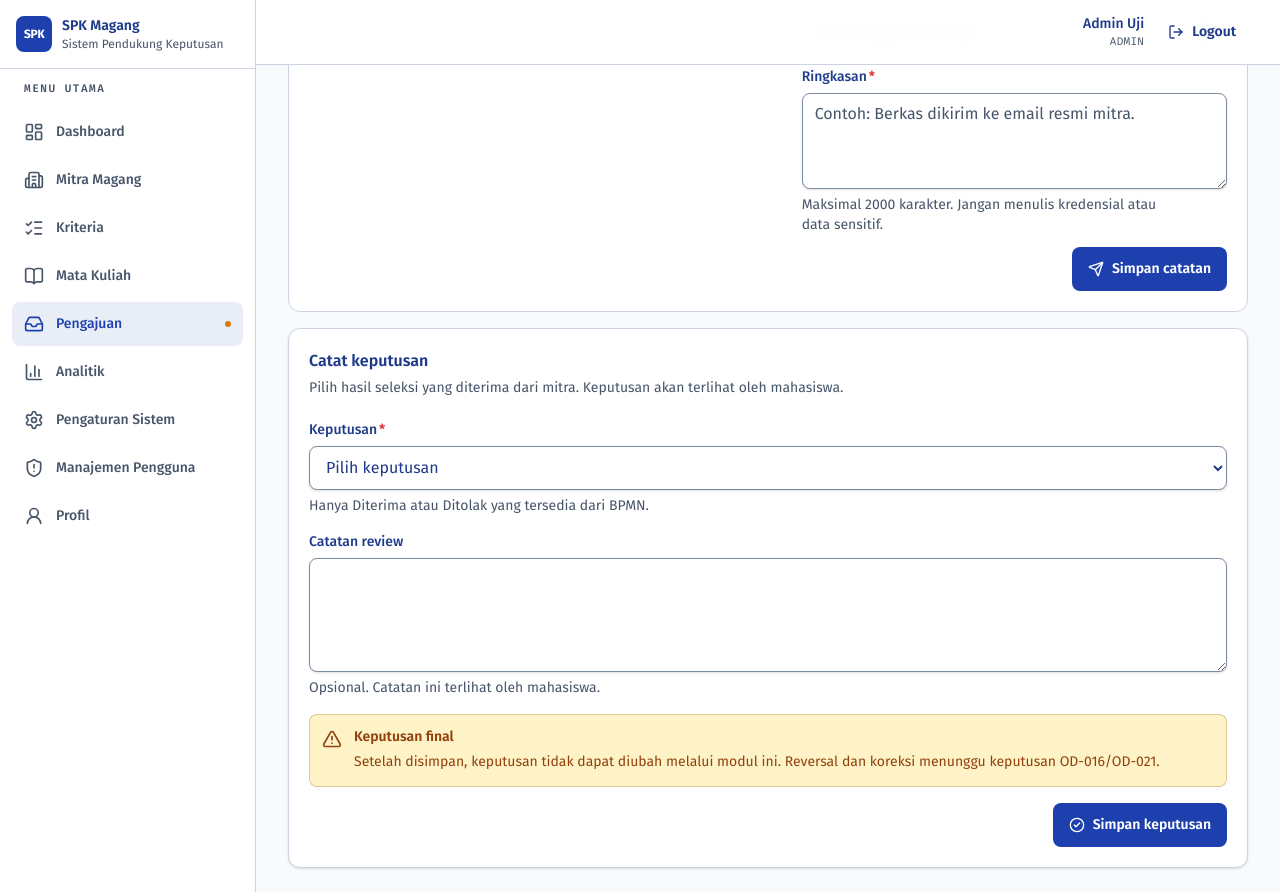
Test: AdminApplicationDetailPage › menampilkan pesan khusus ketika keputusan sudah final
(page scrolled)
Select "Ditolak" in the dropdown labelled "Keputusan*". click: (768, 468)
box: [309, 446, 1227, 490]
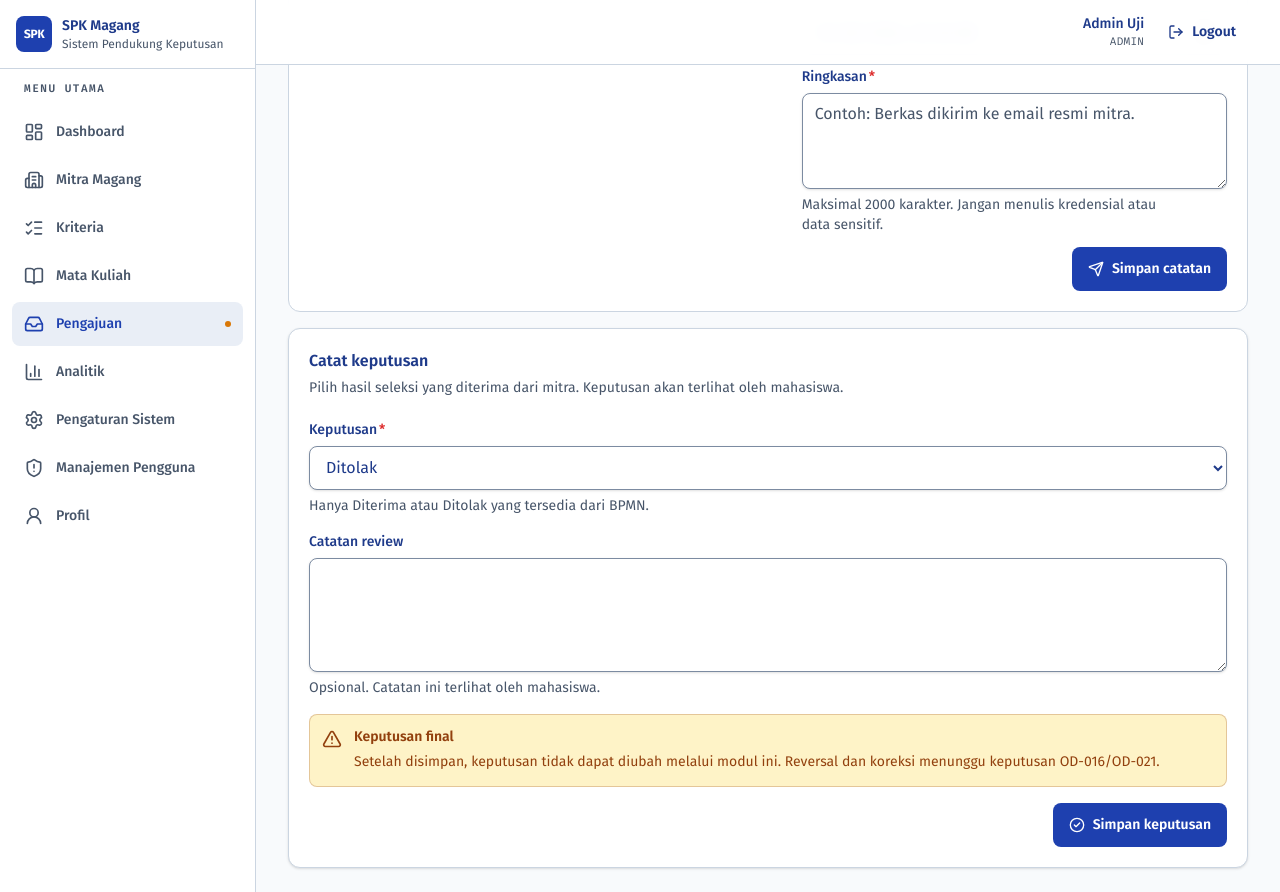
Click the button "Simpan keputusan". click: (1140, 824)
box: [1053, 802, 1227, 846]
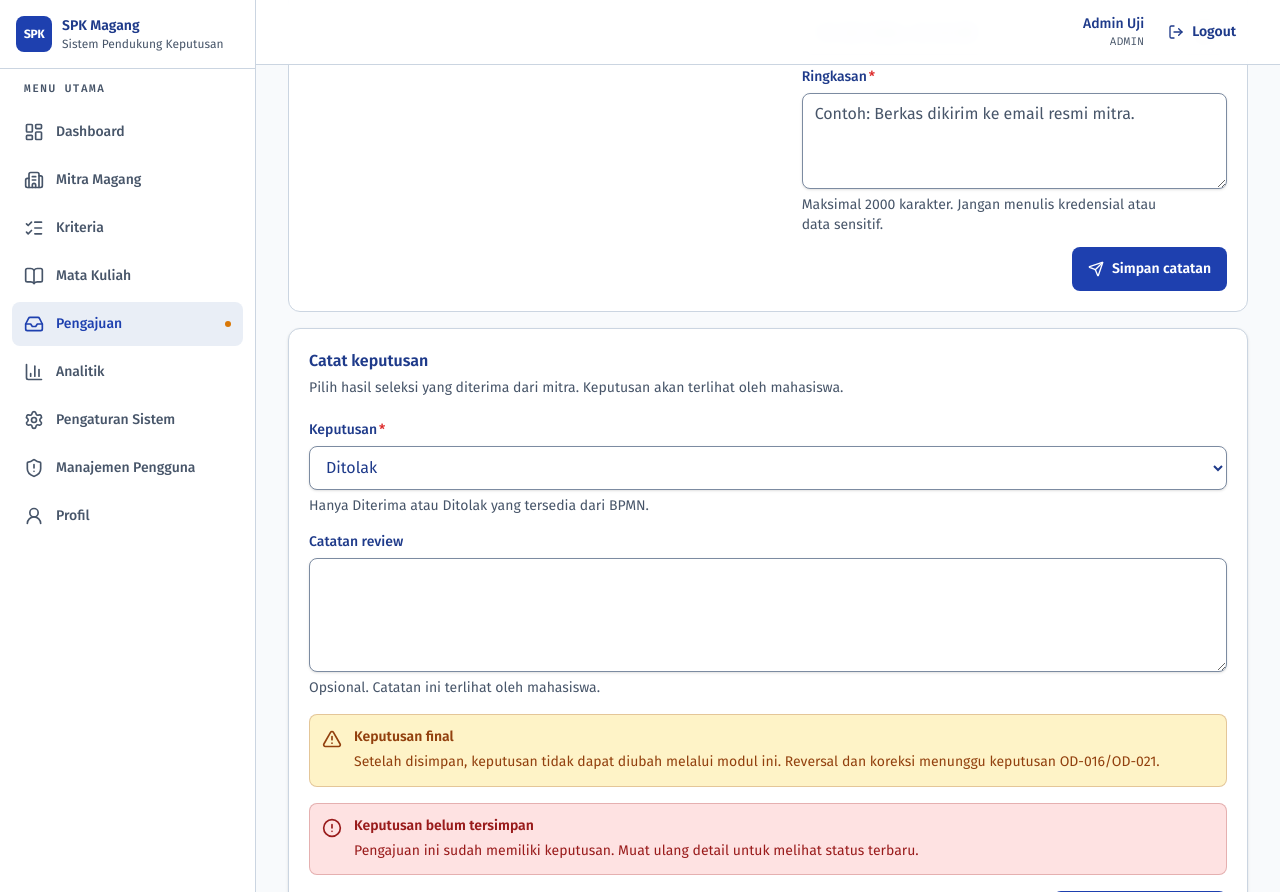
Now the text "Pengajuan ini sudah memiliki keputusan. Muat ulang detail untuk melihat status terbaru." is shown, box [354, 842, 919, 858]
